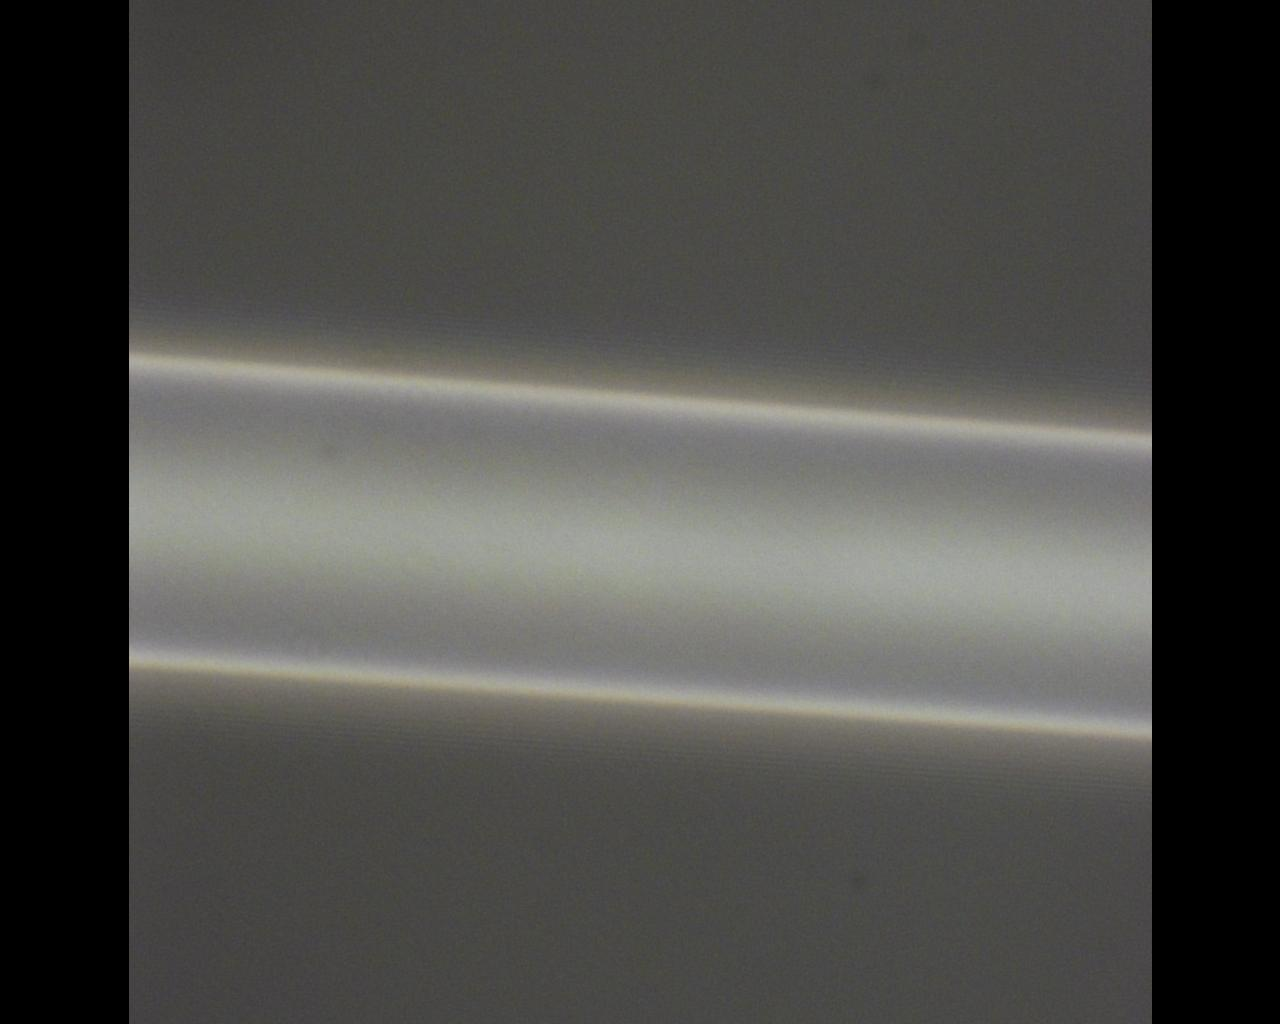fiber: (128, 356, 1152, 741)
